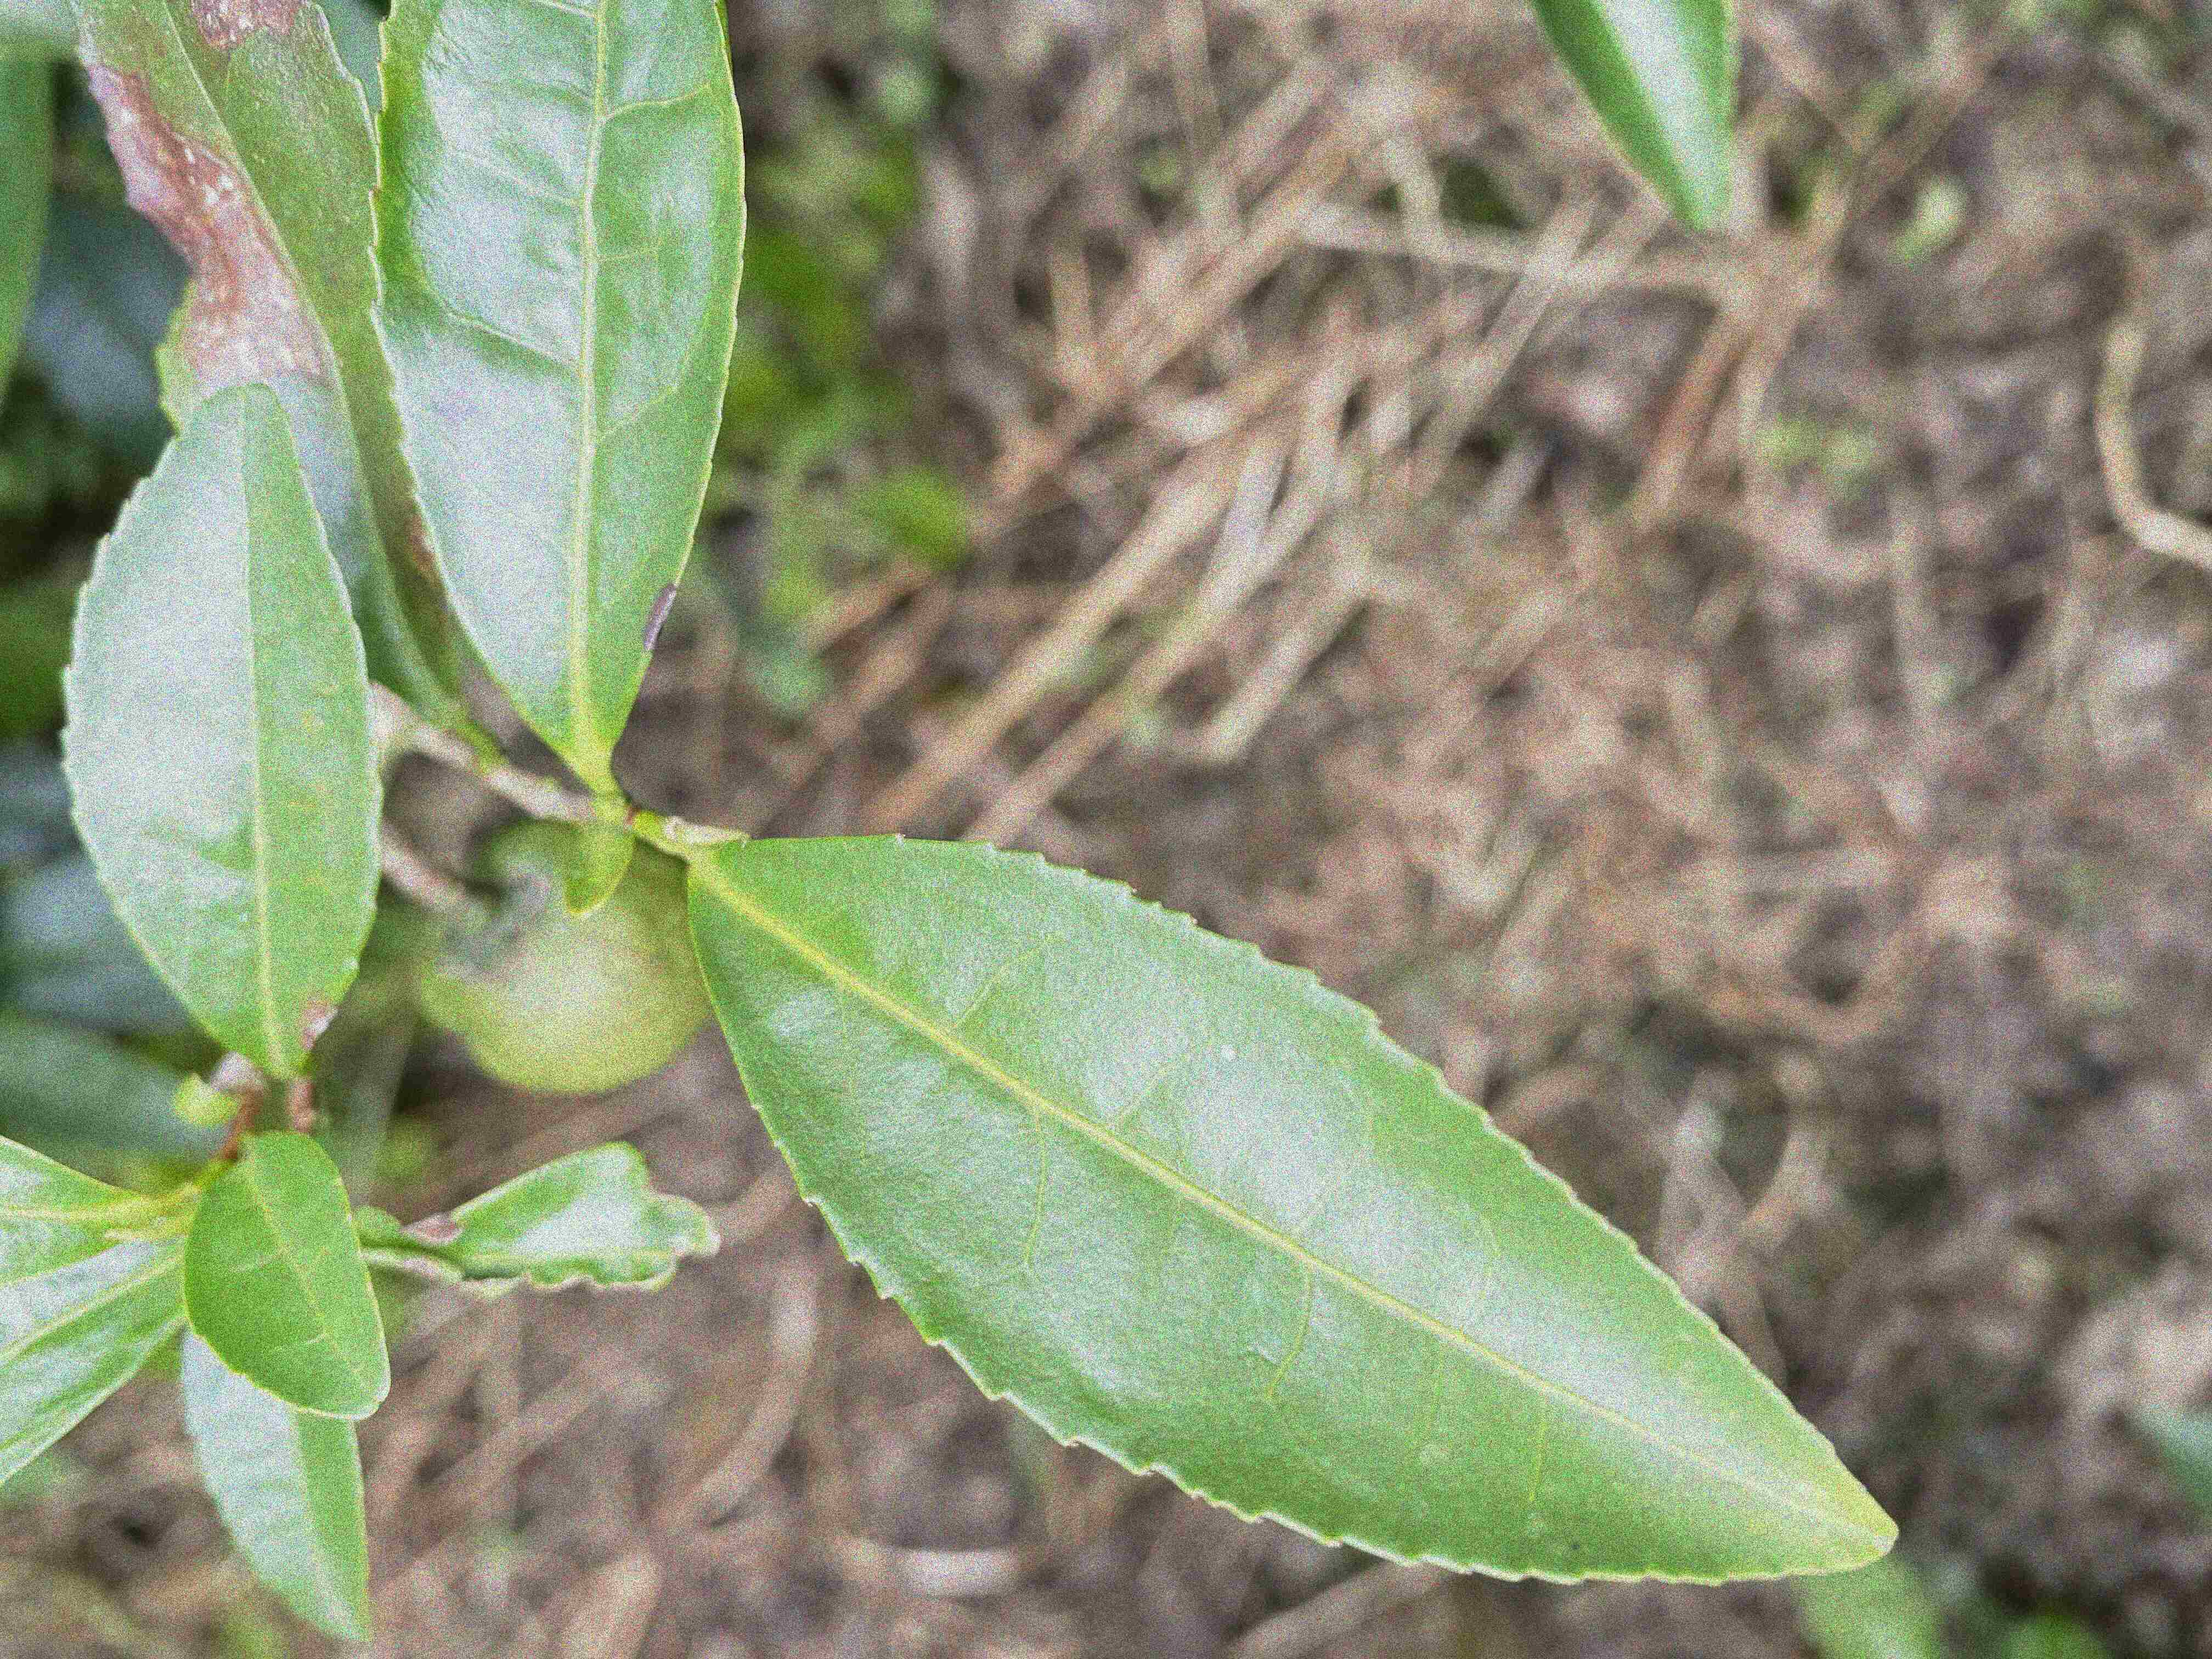healthy: (690, 836, 1902, 1586), (181, 1126, 395, 1417)
tanju_low: (368, 2, 752, 765), (54, 382, 387, 1077)
